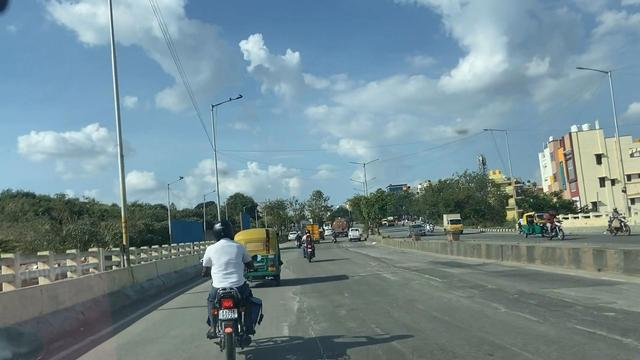RoadDamages: (375, 262, 485, 304), (276, 286, 330, 357)
